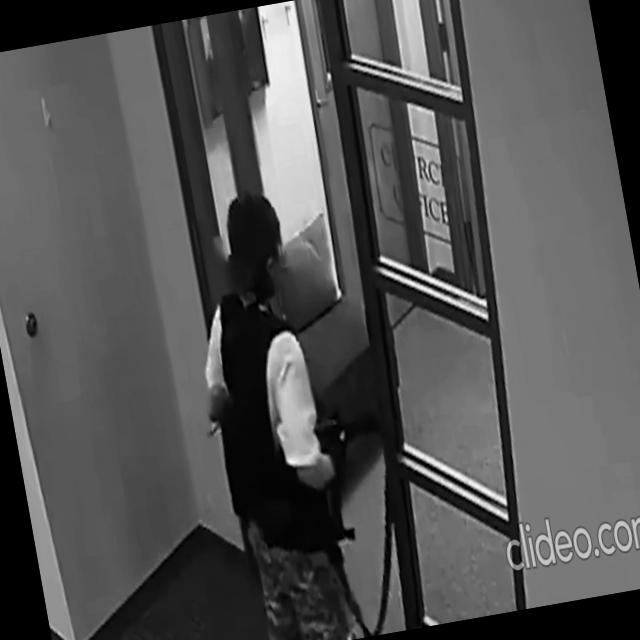gun: (307, 402, 394, 461)
person with a gun: (172, 170, 427, 640)
